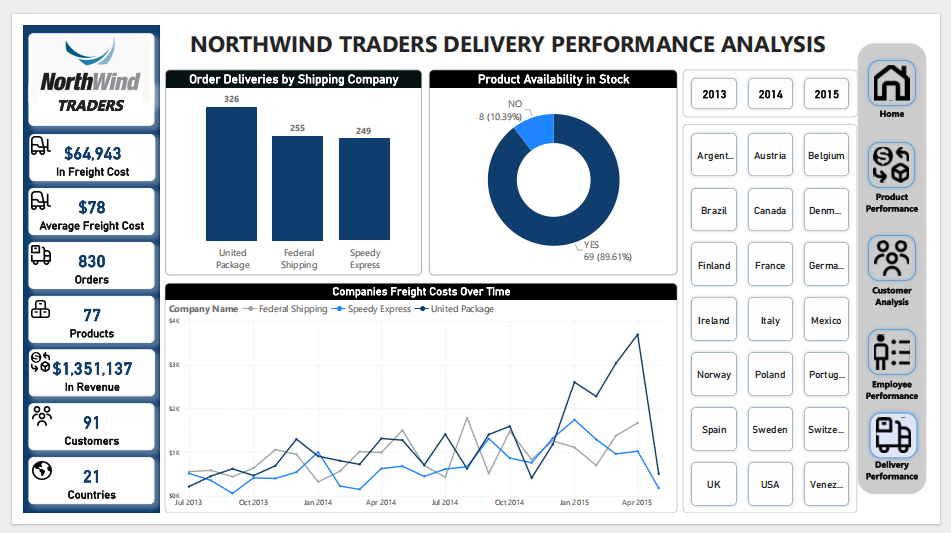

This screenshot's page, from the dashboard's own definition file:
{"tool":"powerbi","page":{"name":"Delivery Performance","canvas":[1950,1050],"ordinal":4},"visuals":[{"type":"shape","box":[154.1,0,291.4,1050],"z":0},{"type":"actionButton","box":[21.3,57.9,118.2,113.6],"z":0,"group":"g7"},{"type":"group","id":"g1","title":"Group 1","box":[0,228.5,159.6,179],"z":0,"group":"g13"},{"type":"actionButton","box":[20.4,620.6,118.2,113.6],"z":0,"group":"g5"},{"type":"actionButton","box":[24.8,816.4,117.6,113.4],"z":0,"group":"g3"},{"type":"textbox","box":[471.5,18.9,1478.4,75.6],"z":1000},{"type":"actionButton","box":[19.5,228.5,117.8,113.4],"z":1000,"group":"g1"},{"type":"group","id":"g2","title":"Group 2","box":[0,424.8,159.6,178.5],"z":1000,"group":"g13"},{"type":"actionButton","box":[20.4,424.8,117.4,112.9],"z":2000,"group":"g2"},{"type":"group","id":"g3","title":"Group 4","box":[0,816.4,159.6,174.3],"z":2000,"group":"g13"},{"type":"group","id":"g4","title":"Group 6","box":[170.2,919.3,259.3,98.6],"z":2000},{"type":"group","id":"g5","title":"Group 3","box":[0,620.6,159.6,178.5],"z":3000,"group":"g13"},{"type":"group","id":"g6","title":"Group 7","box":[169.9,782.7,260,103],"z":3000},{"type":"group","id":"g7","title":"Group 4","box":[0,57.9,159.6,153.3],"z":4000,"group":"g13"},{"type":"donutChart","title":"Product Availability in Stock","fields":{"Y":["Count(order_details.productID)"],"Category":["products.Availability"]},"box":[1023.7,100.7,536.5,438.8],"z":4000,"group":"g15"},{"type":"shape","box":[169.9,124.3,259.3,81.4],"z":4000,"group":"g12"},{"type":"actionButton","box":[0,323.5,159.6,84],"z":4000,"group":"g1"},{"type":"group","id":"g8","title":"Group 8","box":[169.9,649.2,260,100],"z":4000},{"type":"group","id":"g9","title":"Group 9","box":[169.9,512.4,260,103.2],"z":5000},{"type":"actionButton","box":[0,519.7,160,85.1],"z":5000,"group":"g2"},{"type":"image","box":[170.6,31,259.3,141.1],"z":6000,"group":"g17"},{"type":"actionButton","box":[0,153,159.6,58.8],"z":6000,"group":"g7"},{"type":"card","title":"Total Revenue","fields":{"Values":["Sum(order_details.Revenue Generated)"]},"box":[170.2,246.6,259.3,98.6],"z":6000,"group":"g11"},{"type":"group","id":"g10","title":"Group 10","box":[169.9,378.8,260,100],"z":6000},{"type":"lineChart","title":"Companies Freight Costs Over Time","fields":{"Y":["Sum(Orders.freight)"],"Series":["shippers.companyName"],"Category":["Orders.orderDate.Variation.Date Hierarchy.Year","Orders.orderDate.Variation.Date Hierarchy.Month"]},"box":[452.1,556.4,1107.6,491.4],"z":6000,"group":"g15"},{"type":"actionButton","box":[0,715.5,160,85.1],"z":6000,"group":"g5"},{"type":"actionButton","box":[0,905.8,160,85.1],"z":6000,"group":"g3"},{"type":"advancedSlicerVisual","fields":{"Values":["Orders.orderDate.Variation.Date Hierarchy.Year"]},"box":[1572.2,100.7,377.7,101.3],"z":7000,"group":"g15"},{"type":"group","id":"g11","title":"Group 11","box":[170.2,240.2,259.3,105],"z":7000},{"type":"card","title":"Number of Countries","fields":{"Values":["Count(customers.country)"]},"box":[169.9,785.7,260,100],"z":7000,"group":"g6"},{"type":"group","id":"g12","title":"Group 14","box":[169.9,31,260,175.7],"z":8000},{"type":"clusteredColumnChart","title":"Order Deliveries by Shipping Company","fields":{"Category":["shippers.companyName"],"Y":["CountNonNull(Orders.orderID)"]},"box":[453.1,100.7,554.5,438.8],"z":8000,"group":"g15"},{"type":"textbox","box":[192.5,145.8,212,60.9],"z":8000,"group":"g17"},{"type":"group","id":"g13","title":"Group 15","box":[0,57.9,158.6,934.3],"z":9000},{"type":"advancedSlicerVisual","fields":{"Values":["customers.country"]},"box":[1572.2,216.4,376.7,831.5],"z":9000,"group":"g15"},{"type":"card","title":"Number of Orders","fields":{"Values":["Count(order_details.orderID)"]},"box":[169.9,378.8,260,100],"z":9000,"group":"g10"},{"type":"group","id":"g14","title":"Group 12","box":[452.1,100.7,1497.9,947.1],"z":10000},{"type":"card","title":"Number of Customers","fields":{"Values":["CountNonNull(customers.customerID)"]},"box":[169.9,515.6,260,100],"z":11000,"group":"g9"},{"type":"image","box":[171.1,240.2,46.2,54.6],"z":14000,"group":"g11"},{"type":"image","box":[172.9,512.4,44.1,54.6],"z":15000,"group":"g9"},{"type":"image","box":[171.8,782.7,46.2,54.6],"z":16000,"group":"g6"},{"type":"card","title":"Number of Products","fields":{"Values":["CountNonNull(products.productID)"]},"box":[169.9,649.2,260,100],"z":17000,"group":"g8"},{"type":"image","box":[170.8,379.8,46.2,54.6],"z":18000,"group":"g10"},{"type":"group","id":"g15","title":"Group 13","box":[452.1,100.7,1497.9,947.1],"z":18001,"group":"g14"},{"type":"card","title":"Total Freight Cost","fields":{"Values":["Sum(Orders.freight)"]},"box":[170.2,919.3,260,100],"z":19000,"group":"g4"},{"type":"image","box":[170.8,650.2,46.2,54.6],"z":20000,"group":"g8"},{"type":"group","id":"g16","title":"Group 13","box":[170.6,31,259.3,175.7],"z":21000,"group":"g12"},{"type":"group","id":"g17","title":"Group 12","box":[170.6,31,259.3,175.7],"z":22006,"group":"g16"},{"type":"image","box":[171.1,920.3,50.4,52.5],"z":24000,"group":"g4"}]}

Visuals, with their boxes on the page's 1950x1050 design canvas (x1, y1, x2, y2). These are canvas units, not pixel positions in the 951x533 screenshot, which may show the page scaled, cropped or inside an application window:
shape: {"left": 154, "top": 0, "right": 446, "bottom": 1050}
actionButton: {"left": 21, "top": 58, "right": 140, "bottom": 172}
"Group 1" group: {"left": 0, "top": 228, "right": 160, "bottom": 408}
actionButton: {"left": 20, "top": 621, "right": 139, "bottom": 734}
actionButton: {"left": 25, "top": 816, "right": 142, "bottom": 930}
textbox: {"left": 472, "top": 19, "right": 1950, "bottom": 94}
actionButton: {"left": 20, "top": 228, "right": 137, "bottom": 342}
"Group 2" group: {"left": 0, "top": 425, "right": 160, "bottom": 603}
actionButton: {"left": 20, "top": 425, "right": 138, "bottom": 538}
"Group 4" group: {"left": 0, "top": 816, "right": 160, "bottom": 991}
"Group 6" group: {"left": 170, "top": 919, "right": 430, "bottom": 1018}
"Group 3" group: {"left": 0, "top": 621, "right": 160, "bottom": 799}
"Group 7" group: {"left": 170, "top": 783, "right": 430, "bottom": 886}
"Group 4" group: {"left": 0, "top": 58, "right": 160, "bottom": 211}
"Product Availability in Stock" donutChart: {"left": 1024, "top": 101, "right": 1560, "bottom": 540}
shape: {"left": 170, "top": 124, "right": 429, "bottom": 206}
actionButton: {"left": 0, "top": 324, "right": 160, "bottom": 408}
"Group 8" group: {"left": 170, "top": 649, "right": 430, "bottom": 749}
"Group 9" group: {"left": 170, "top": 512, "right": 430, "bottom": 616}
actionButton: {"left": 0, "top": 520, "right": 160, "bottom": 605}
image: {"left": 171, "top": 31, "right": 430, "bottom": 172}
actionButton: {"left": 0, "top": 153, "right": 160, "bottom": 212}
"Total Revenue" card: {"left": 170, "top": 247, "right": 430, "bottom": 345}
"Group 10" group: {"left": 170, "top": 379, "right": 430, "bottom": 479}
"Companies Freight Costs Over Time" lineChart: {"left": 452, "top": 556, "right": 1560, "bottom": 1048}
actionButton: {"left": 0, "top": 716, "right": 160, "bottom": 801}
actionButton: {"left": 0, "top": 906, "right": 160, "bottom": 991}
advancedSlicerVisual - Orders.orderDate.Variation.Date Hierarchy.Year: {"left": 1572, "top": 101, "right": 1950, "bottom": 202}
"Group 11" group: {"left": 170, "top": 240, "right": 430, "bottom": 345}
"Number of Countries" card: {"left": 170, "top": 786, "right": 430, "bottom": 886}
"Group 14" group: {"left": 170, "top": 31, "right": 430, "bottom": 207}
"Order Deliveries by Shipping Company" clusteredColumnChart: {"left": 453, "top": 101, "right": 1008, "bottom": 540}
textbox: {"left": 192, "top": 146, "right": 404, "bottom": 207}
"Group 15" group: {"left": 0, "top": 58, "right": 159, "bottom": 992}
advancedSlicerVisual - customers.country: {"left": 1572, "top": 216, "right": 1949, "bottom": 1048}
"Number of Orders" card: {"left": 170, "top": 379, "right": 430, "bottom": 479}
"Group 12" group: {"left": 452, "top": 101, "right": 1950, "bottom": 1048}
"Number of Customers" card: {"left": 170, "top": 516, "right": 430, "bottom": 616}
image: {"left": 171, "top": 240, "right": 217, "bottom": 295}
image: {"left": 173, "top": 512, "right": 217, "bottom": 567}
image: {"left": 172, "top": 783, "right": 218, "bottom": 837}
"Number of Products" card: {"left": 170, "top": 649, "right": 430, "bottom": 749}
image: {"left": 171, "top": 380, "right": 217, "bottom": 434}
"Group 13" group: {"left": 452, "top": 101, "right": 1950, "bottom": 1048}
"Total Freight Cost" card: {"left": 170, "top": 919, "right": 430, "bottom": 1019}
image: {"left": 171, "top": 650, "right": 217, "bottom": 705}
"Group 13" group: {"left": 171, "top": 31, "right": 430, "bottom": 207}
"Group 12" group: {"left": 171, "top": 31, "right": 430, "bottom": 207}
image: {"left": 171, "top": 920, "right": 222, "bottom": 973}
